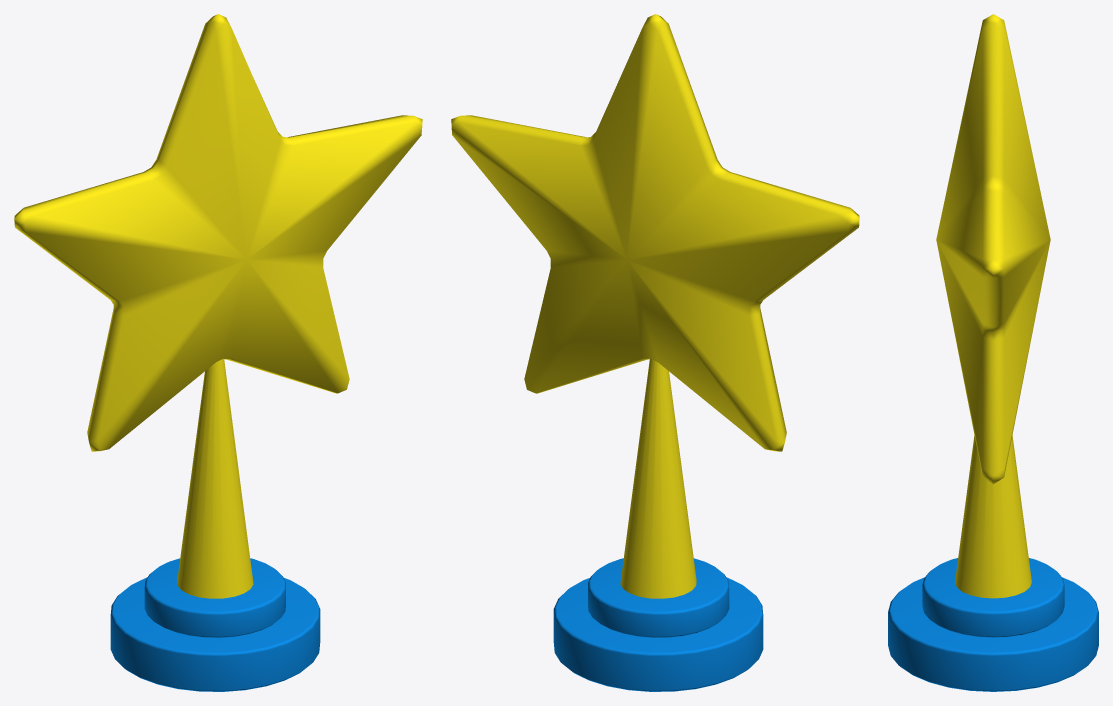
The model's file is Public_12_Trophy_1.glb.
3 views of the same model, side by side, from view 1: azimuth 30°, elevation 25°; view 2: azimuth 150°, elevation 25°; view 3: azimuth 270°, elevation 25° (orthographic).
Visible parts, largest first — view 1: Public_12_Trophy_1; view 2: Public_12_Trophy_1; view 3: Public_12_Trophy_1.
Part boxes in pixels (x1=…): Public_12_Trophy_1: x1=14, y1=14, x2=422, y2=691; Public_12_Trophy_1: x1=451, y1=14, x2=859, y2=691; Public_12_Trophy_1: x1=888, y1=14, x2=1098, y2=691.
Size of the model in its own units: 1.38 by 2.05 by 0.6148.
1 material, 1 textured.
